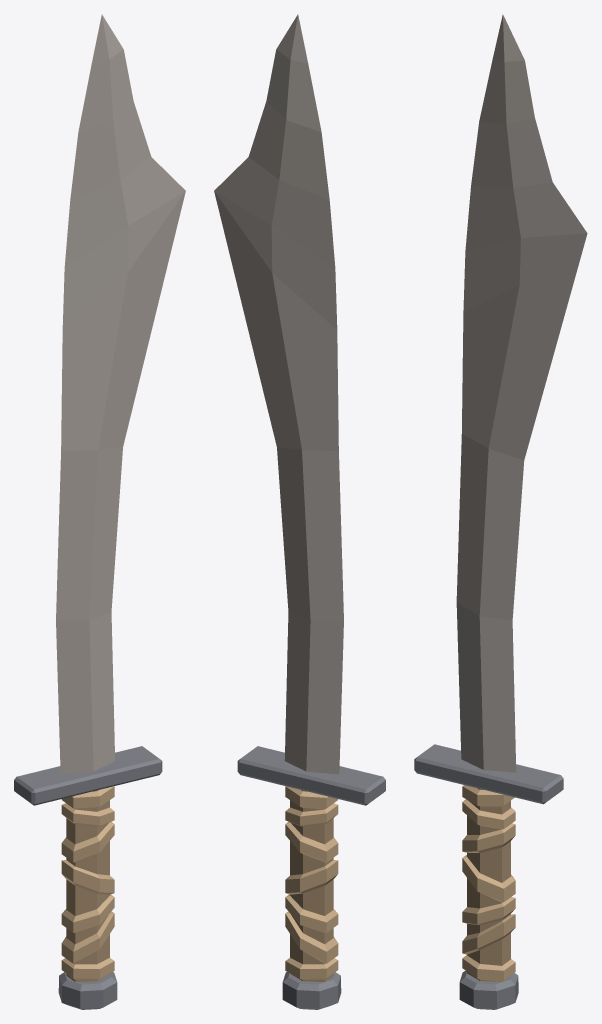
File: SM_pwe_persia_sword_02.fbx
3 renders of one model, left to right at view 1: azimuth 30°, elevation 25°; view 2: azimuth 150°, elevation 25°; view 3: azimuth 330°, elevation 25°, orthographic.
Visible parts, largest first — view 1: SM_pwe_persia_sword_02; view 2: SM_pwe_persia_sword_02; view 3: SM_pwe_persia_sword_02.
Part boxes in pixels (x1,y1,x2,y2): SM_pwe_persia_sword_02: (14, 14, 185, 1009); SM_pwe_persia_sword_02: (214, 14, 385, 1009); SM_pwe_persia_sword_02: (414, 14, 587, 1009).
Size of the model in its own units: 15.8 by 90.96 by 5.09.
